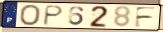2: (90, 5, 110, 29)
6: (68, 6, 85, 27)
8: (113, 6, 133, 29)
F: (134, 6, 159, 29)
O: (18, 4, 42, 27)
P: (42, 4, 65, 26)
